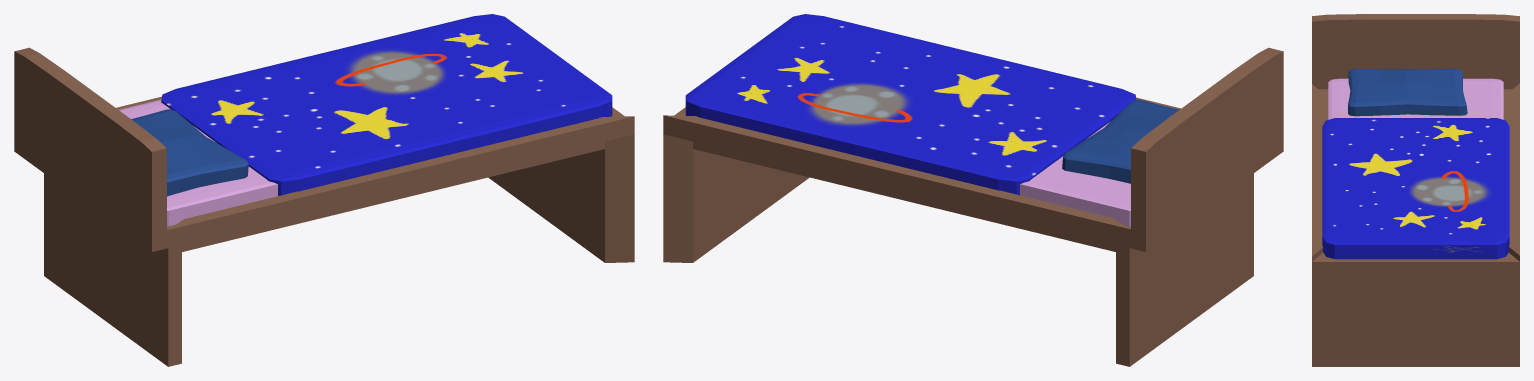
File: bed.fbx
3 renders of one model, left to right at view 1: azimuth 30°, elevation 25°; view 2: azimuth 150°, elevation 25°; view 3: azimuth 270°, elevation 25°, orthographic. The views are drawn at different scales.
Parts seen in each view (by area): view 1: bedframe, coberta, pillow, matress; view 2: bedframe, coberta, pillow, matress; view 3: bedframe, coberta, pillow, matress.
Boxes of the visible parts, x1,y1,x2,y2 form: bedframe: [14, 47, 634, 366]; coberta: [161, 14, 612, 195]; pillow: [131, 109, 248, 196]; matress: [119, 99, 277, 226]; bedframe: [663, 47, 1283, 366]; coberta: [685, 14, 1136, 195]; pillow: [1062, 99, 1179, 183]; matress: [1020, 121, 1130, 226]; bedframe: [1312, 14, 1519, 366]; coberta: [1322, 118, 1509, 259]; pillow: [1348, 68, 1467, 116]; matress: [1328, 78, 1503, 119].
Size of the model in its own units: 698 by 319 by 344.
